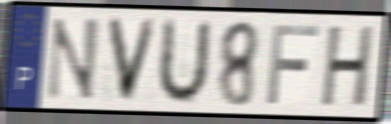8: (215, 18, 262, 108)
F: (265, 22, 322, 107)
H: (318, 23, 377, 110)
N: (43, 16, 102, 103)
U: (153, 16, 213, 108)
V: (104, 14, 160, 106)
